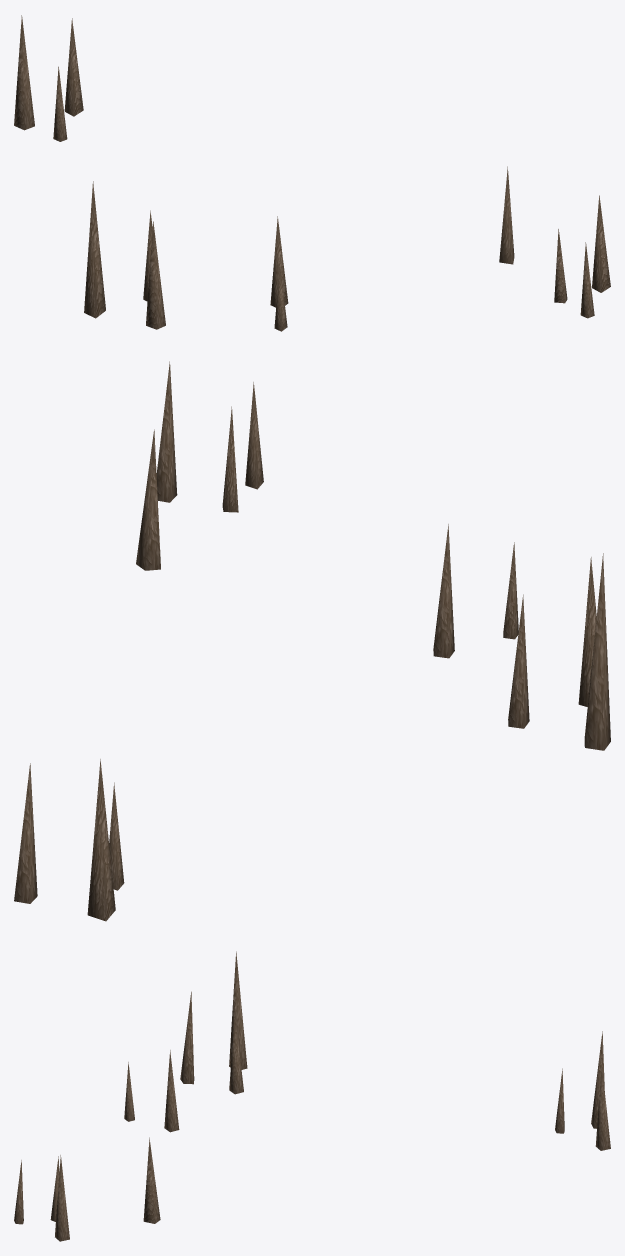
Rendered from area_08_8.FBX.
The picture shows the model from 3 angles, top to bottom: view 1: azimuth 30°, elevation 25°; view 2: azimuth 150°, elevation 25°; view 3: azimuth 270°, elevation 25°; orthographic projection. The views are drawn at different scales.
Parts seen in each view (by area): view 1: area_08_8; view 2: area_08_8; view 3: area_08_8.
Part boxes in pixels (bbox=[...]): area_08_8: bbox=[14, 15, 610, 331]; area_08_8: bbox=[14, 361, 610, 921]; area_08_8: bbox=[14, 951, 610, 1241].
Size of the model in its own units: 29.86 by 9.16 by 42.38.
